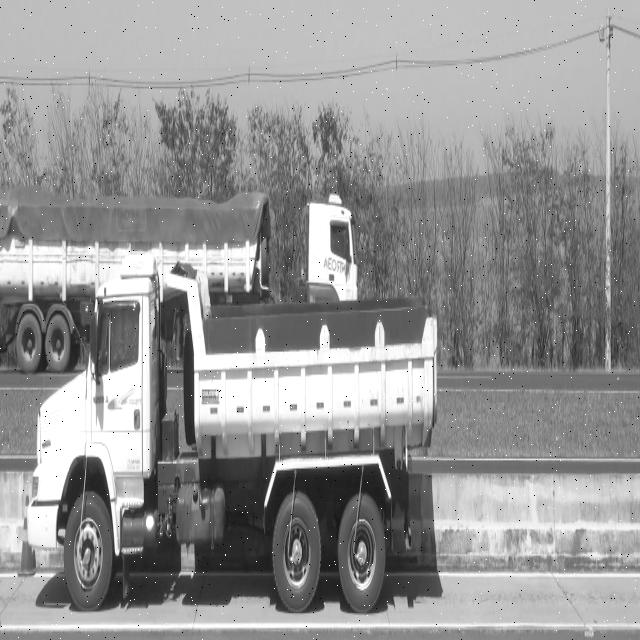-axle: (60, 491, 114, 615), (272, 492, 322, 614), (340, 496, 382, 609)
